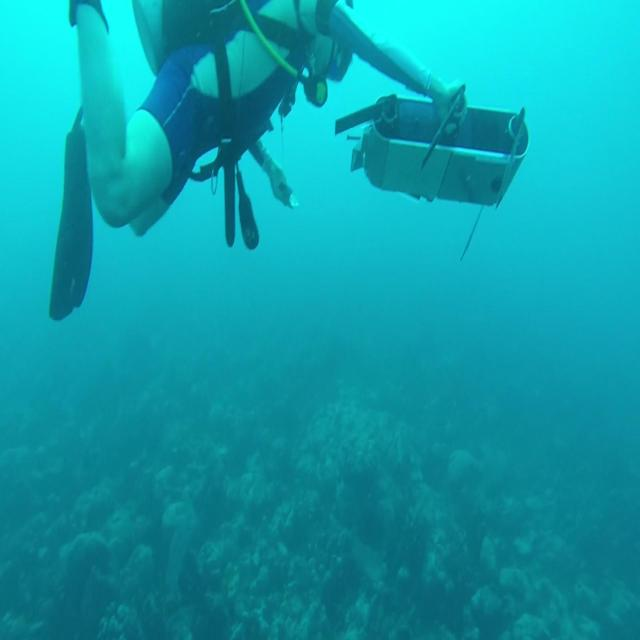human: (48, 0, 468, 321)
